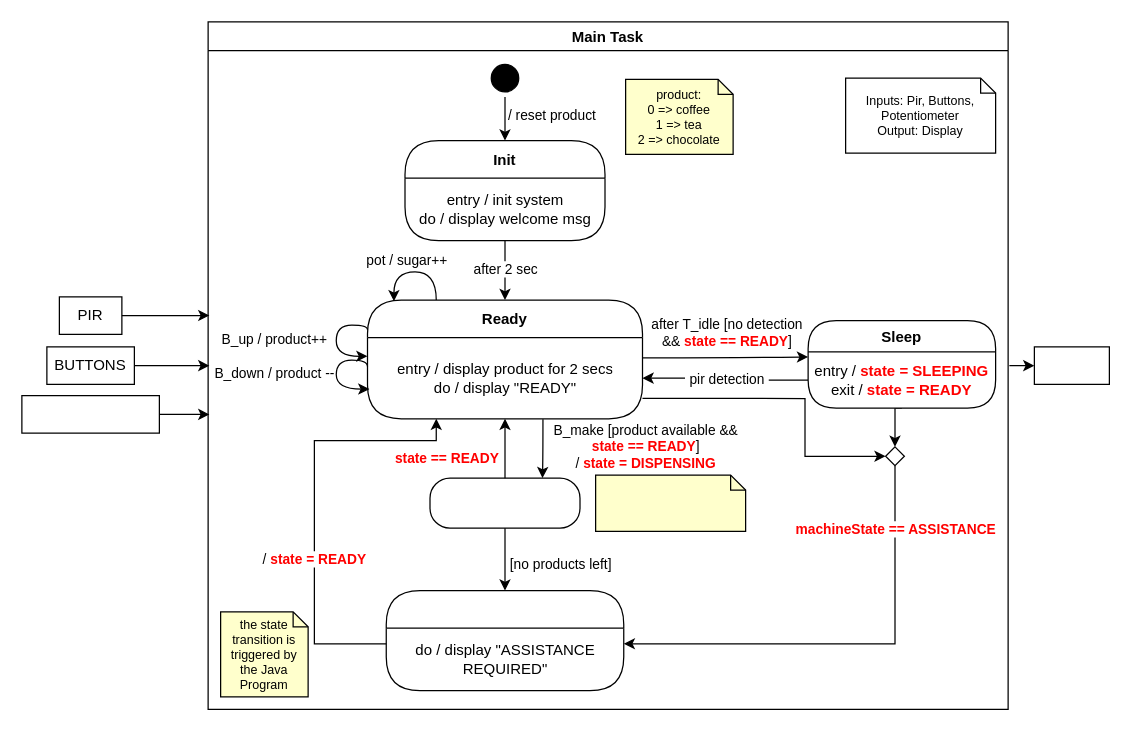
Image size: 1131x731. Some labels were removed from this diagram. The shapes that lost their labels are listed below. From the top down, each one's box as (x1, y1, x2, y2) in pixels, then its label:
(1033, 346, 1109, 384): DISPLAY
(21, 394, 159, 433): POTENTIOMETER
(429, 477, 580, 528): Making
(594, 474, 746, 531): to avoid the making process starts while executing self test
(385, 589, 624, 691): Assistance Mode
